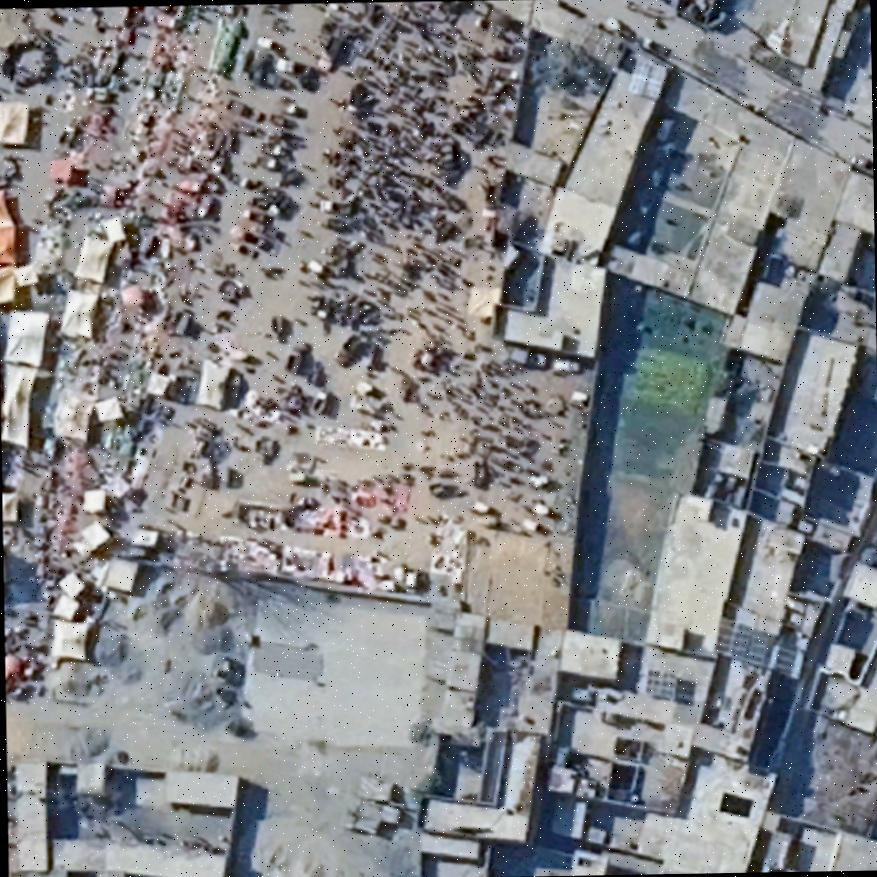Solarpanel: (725, 617, 778, 667), (626, 55, 671, 102), (642, 664, 681, 706)
